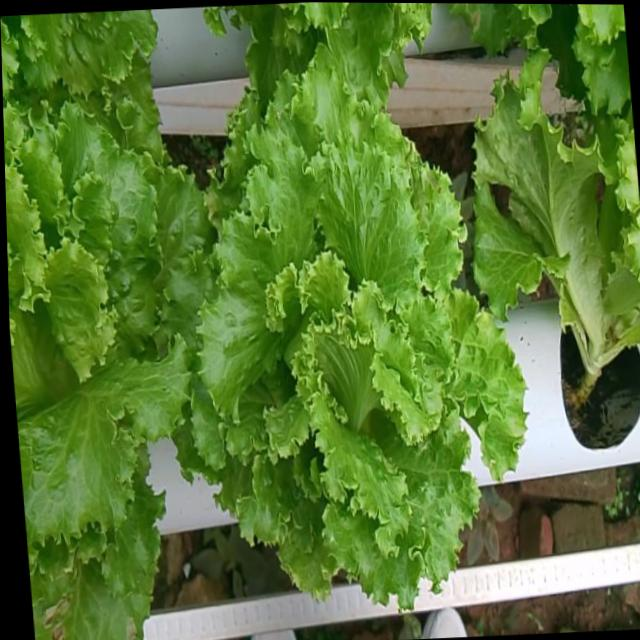Mature: (184, 83, 517, 620), (5, 114, 204, 560)
